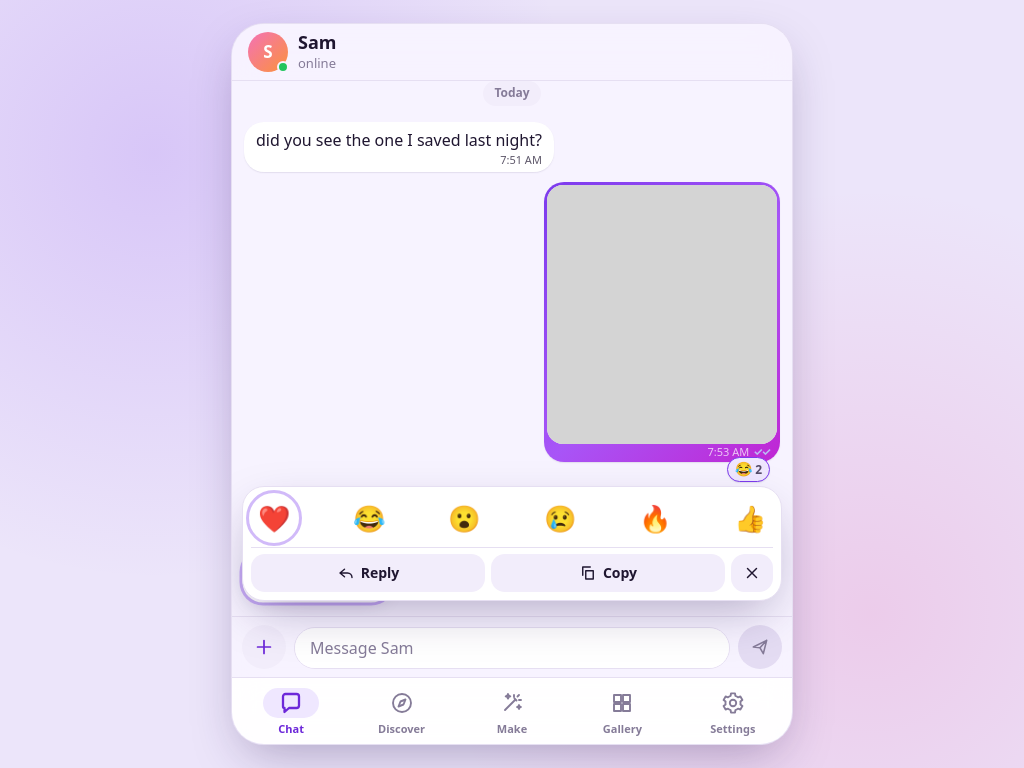
it: chat › a reaction appears under the message
The width and height of the screenshot is (1024, 768).
Earlier steps of the test are not shown.
(page scrolled)
Click the button named "React with 🔥": click(655, 518) left=632, top=495, right=678, bottom=541
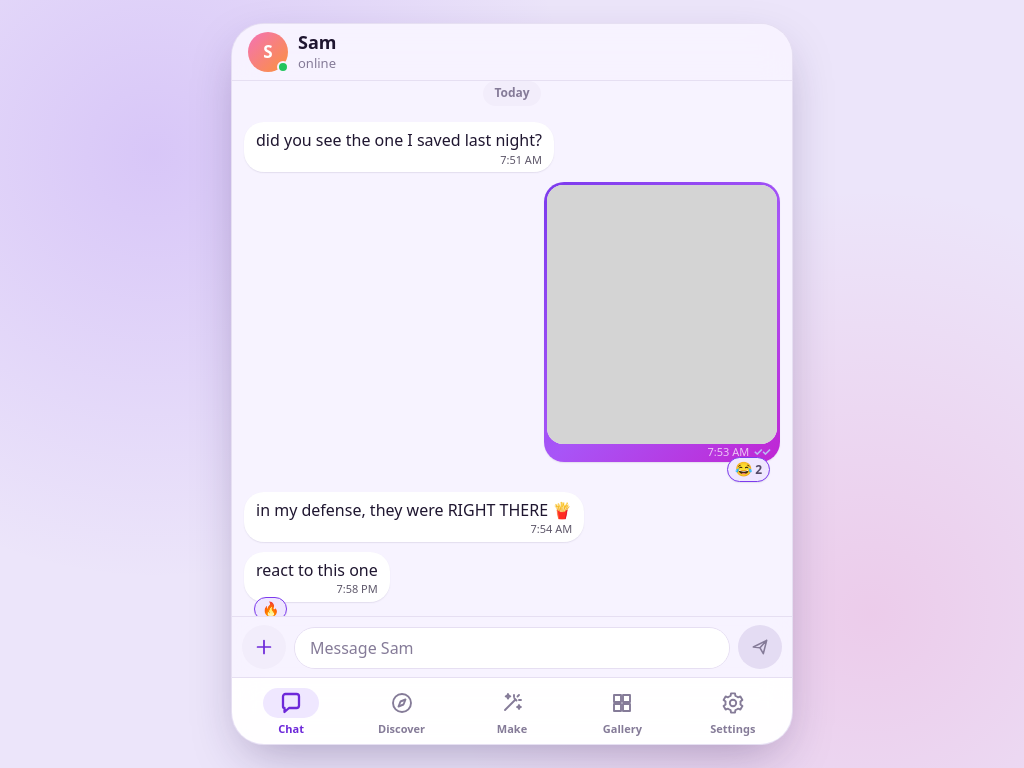
Click the button named "🔥 1, including you": click(270, 609) left=254, top=597, right=287, bottom=621
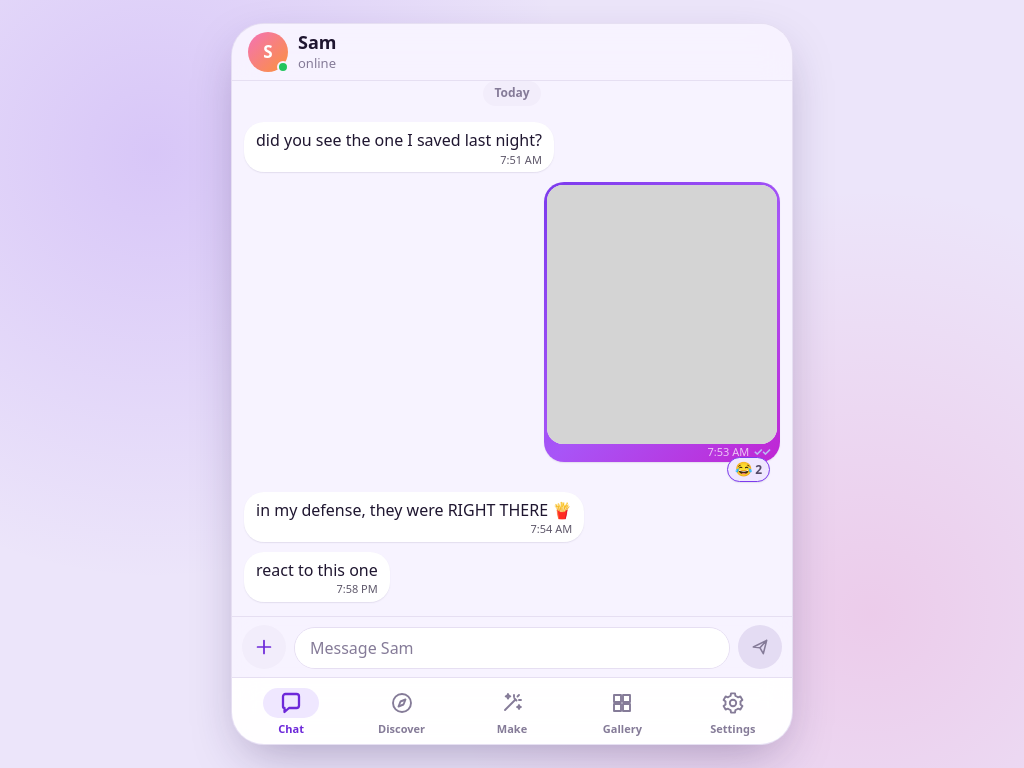
Expected: the button "🔥" is gone
